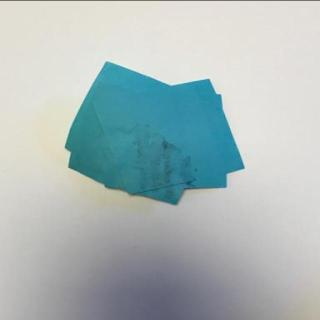Anorganik: (55, 57, 248, 207)
